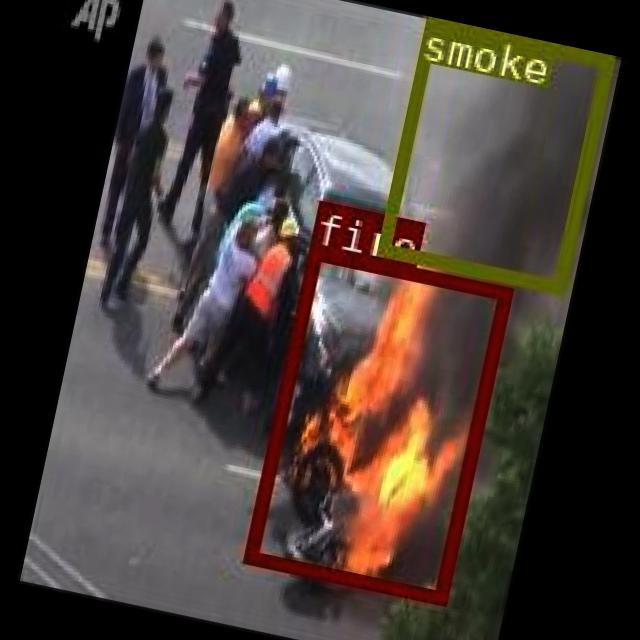fire: (242, 244, 510, 600)
smoke: (374, 15, 612, 293)
